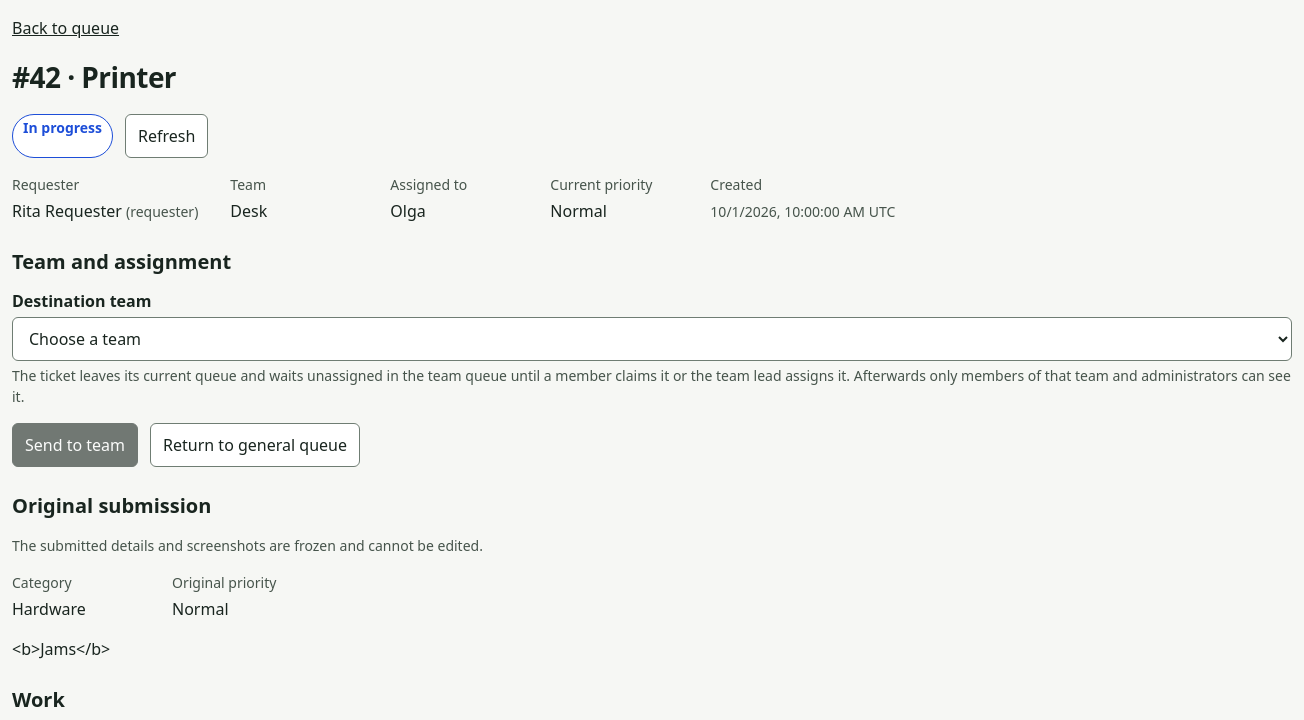
a transfer out of the caller team shows a receipt instead of the ticket
Expected: the button "Send to team" is disabled, x1=12 y1=423 x2=138 y2=467
Select "Network" in the dropdown labelled "Destination team" at (652, 339), box x1=12 y1=317 x2=1292 y2=361
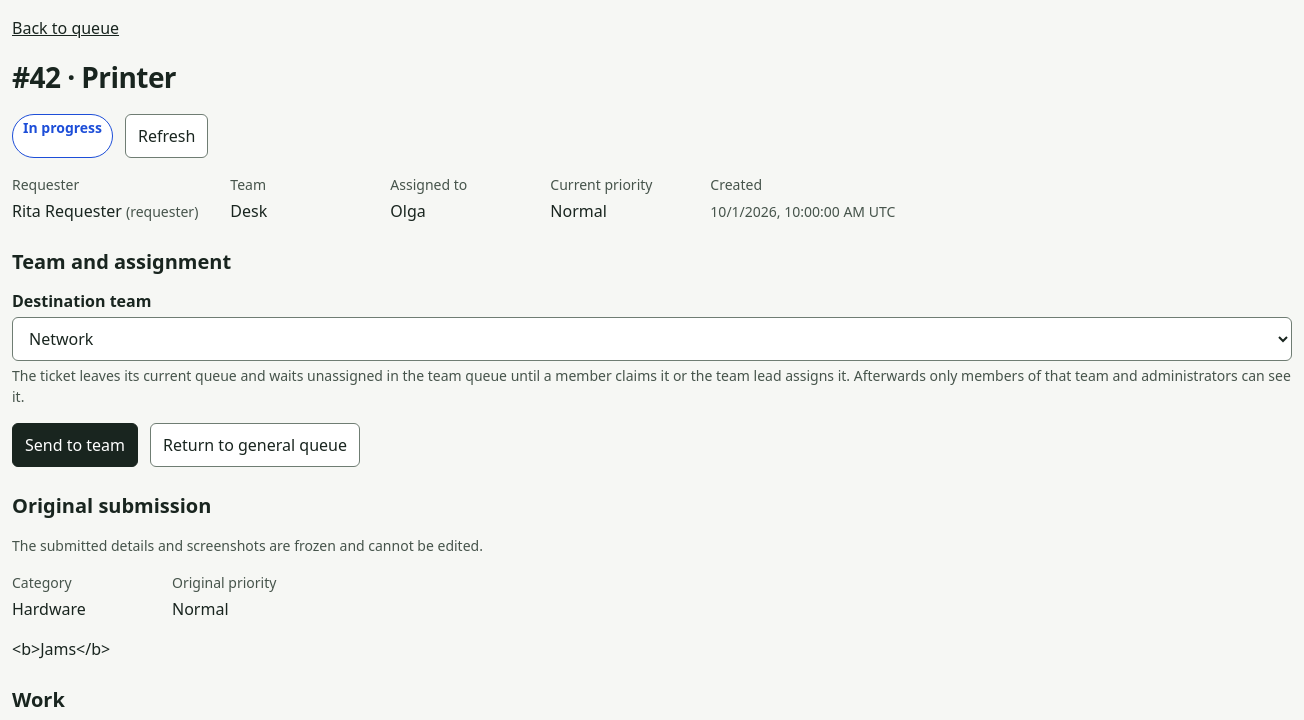
Click the button "Send to team" at (75, 445), box x1=12 y1=423 x2=138 y2=467
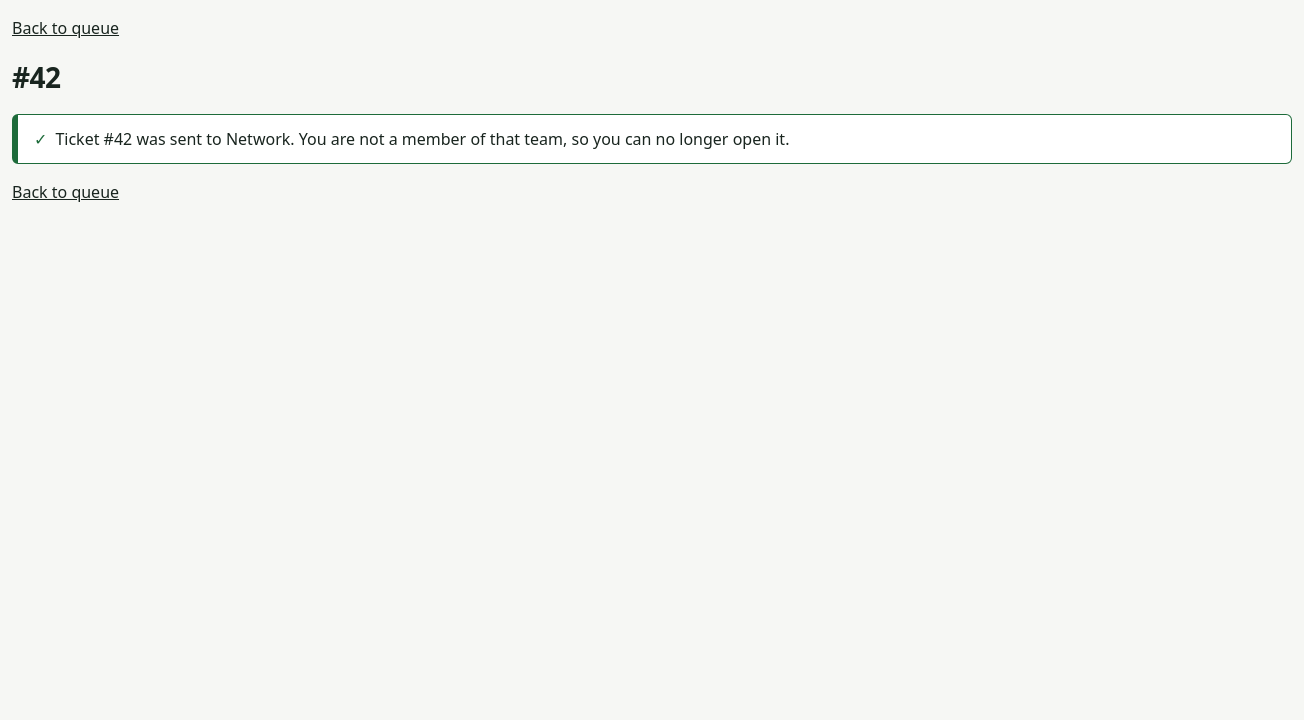
Now the text "Ticket #42 was sent to Network. You are not a member" is shown, box x1=55 y1=128 x2=789 y2=150
Now the heading "Printer" is gone
